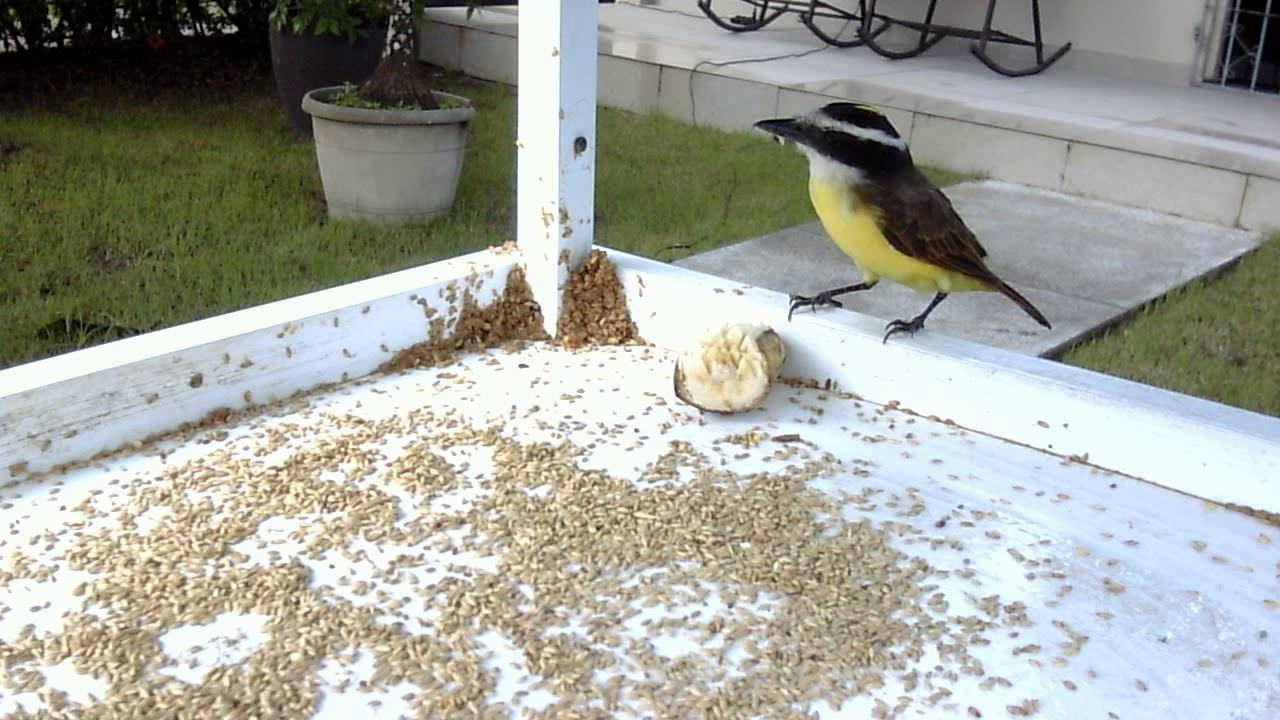bem_te_vi: (734, 89, 1071, 365)
